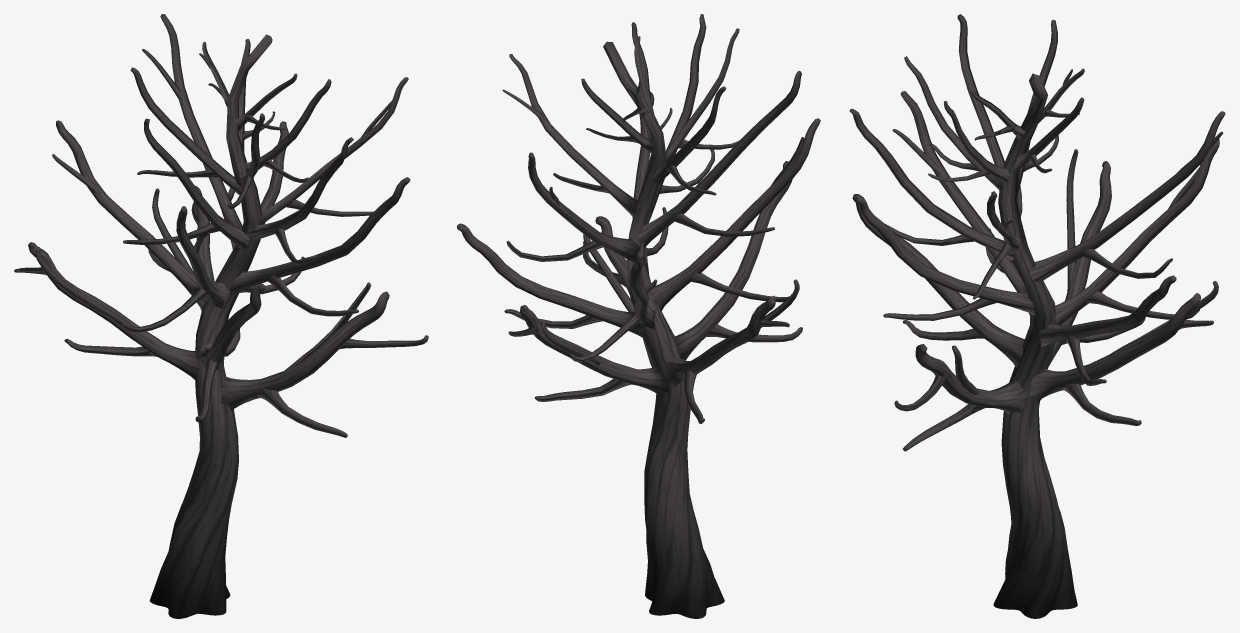
File: DeadTree_1.glb
3 views of the same model, side by side, from view 1: azimuth 30°, elevation 25°; view 2: azimuth 150°, elevation 25°; view 3: azimuth 270°, elevation 25° (orthographic). The views are drawn at different scales.
Visible parts, largest first — view 1: DeadTree_1; view 2: DeadTree_1; view 3: DeadTree_1.
Part boxes in pixels (x1,y1,x2,y2): DeadTree_1: (14,14,428,618); DeadTree_1: (457,14,820,618); DeadTree_1: (849,14,1225,618).
Size of the model in its own units: 6.15 by 9.5 by 5.75.
1 material, 1 textured.
